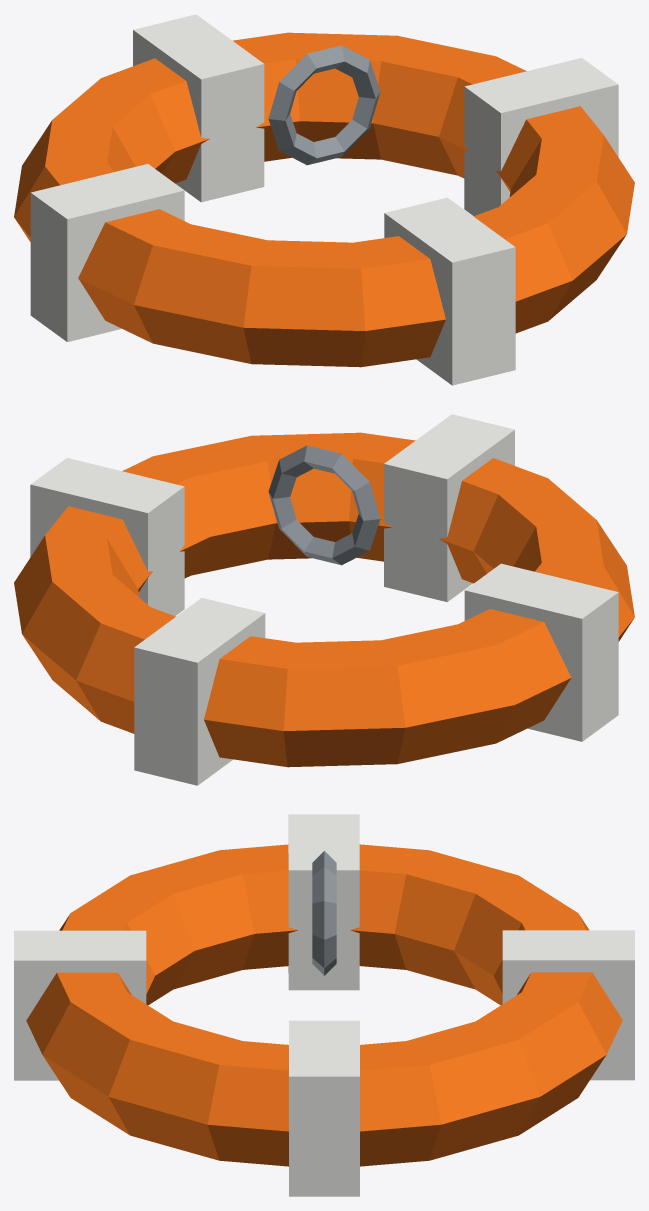
The model's file is supply_ring.fbx.
3 renders of one model, top to bottom at view 1: azimuth 30°, elevation 25°; view 2: azimuth 150°, elevation 25°; view 3: azimuth 270°, elevation 25°, orthographic. The views are drawn at different scales.
Parts seen in each view (by area): view 1: M__supply_ring; view 2: M__supply_ring; view 3: M__supply_ring.
Boxes of the visible parts, <box> form: M__supply_ring: <box>14,14,634,385</box>; M__supply_ring: <box>14,414,634,785</box>; M__supply_ring: <box>14,814,634,1196</box>.
Size of the model in its own units: 0.6101 by 0.224 by 0.6101.
